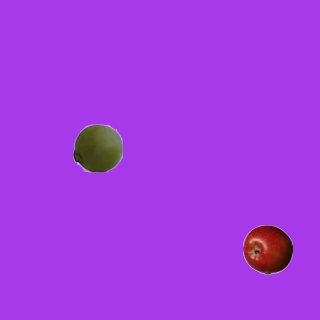Apple Braeburn: (242, 224, 292, 274)
Grape White 4: (72, 122, 122, 172)
